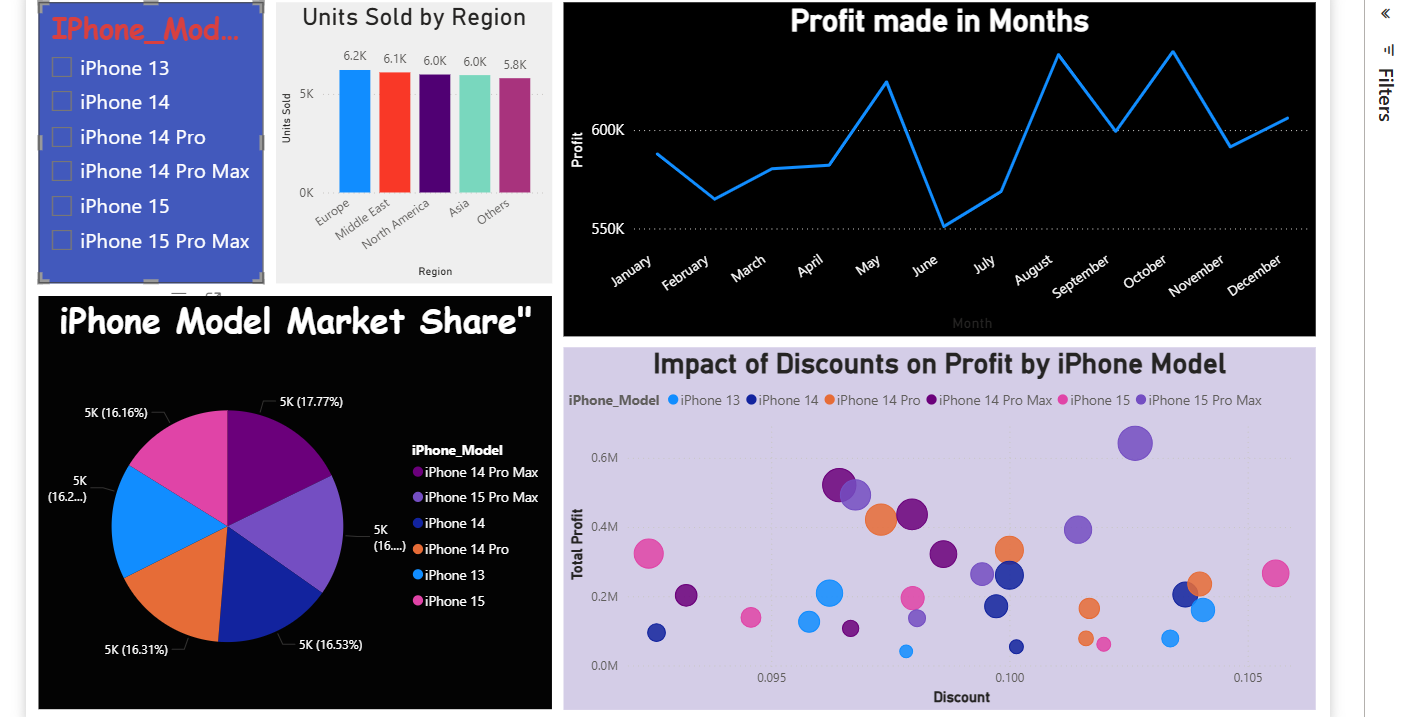

What the dashboard file says about the page in this screenshot:
{"tool":"powerbi","page":{"name":"Page 2","canvas":[1280,720],"ordinal":1},"visuals":[{"type":"slicer","fields":{"Values":["iphone_sales sales_data.iPhone_Model"]},"box":[12.5,11.1,220.3,275.7],"z":0},{"type":"clusteredColumnChart","title":"Units Sold by Region","fields":{"Category":["iphone_sales sales_data.Region"],"Y":["Sum(iphone_sales sales_data.Units_Sold)"]},"box":[245.2,11.1,271.6,275.7],"z":1},{"type":"lineChart","title":"Profit made in Months","fields":{"Category":["iphone_sales sales_data.Date.Variation.Date Hierarchy.Month"],"Y":["Sum(iphone_sales sales_data.Profit)"]},"box":[527.9,11.1,738.5,328.4],"z":2},{"type":"scatterChart","title":"Impact of Discounts on Profit by iPhone Model","fields":{"X":["Avg(iphone_sales sales_data.Discount)"],"Y":["Sum(iphone_sales sales_data.Profit)"],"Size":["Sum(iphone_sales sales_data.Revenue)"],"Category":["iphone_sales sales_data.Units_Sold"],"Series":["iphone_sales sales_data.iPhone_Model"]},"box":[527.9,349.2,738.5,356.1],"z":3},{"type":"pieChart","title":"iPhone Model Market Share\"","fields":{"Y":["Sum(iphone_sales sales_data.Units_Sold)"],"Category":["iphone_sales sales_data.iPhone_Model"]},"box":[12.5,299.3,504.4,406],"z":4}]}

Visuals, with their boxes in screenshot pixels (x1, y1, x2, y2):
slicer - iphone_sales sales_data.iPhone_Model: rect(35, 0, 259, 281)
"Units Sold by Region" clusteredColumnChart: rect(272, 0, 548, 281)
"Profit made in Months" lineChart: rect(560, 0, 1312, 335)
"Impact of Discounts on Profit by iPhone Model" scatterChart: rect(560, 345, 1312, 707)
"iPhone Model Market Share"" pieChart: rect(35, 294, 548, 707)
